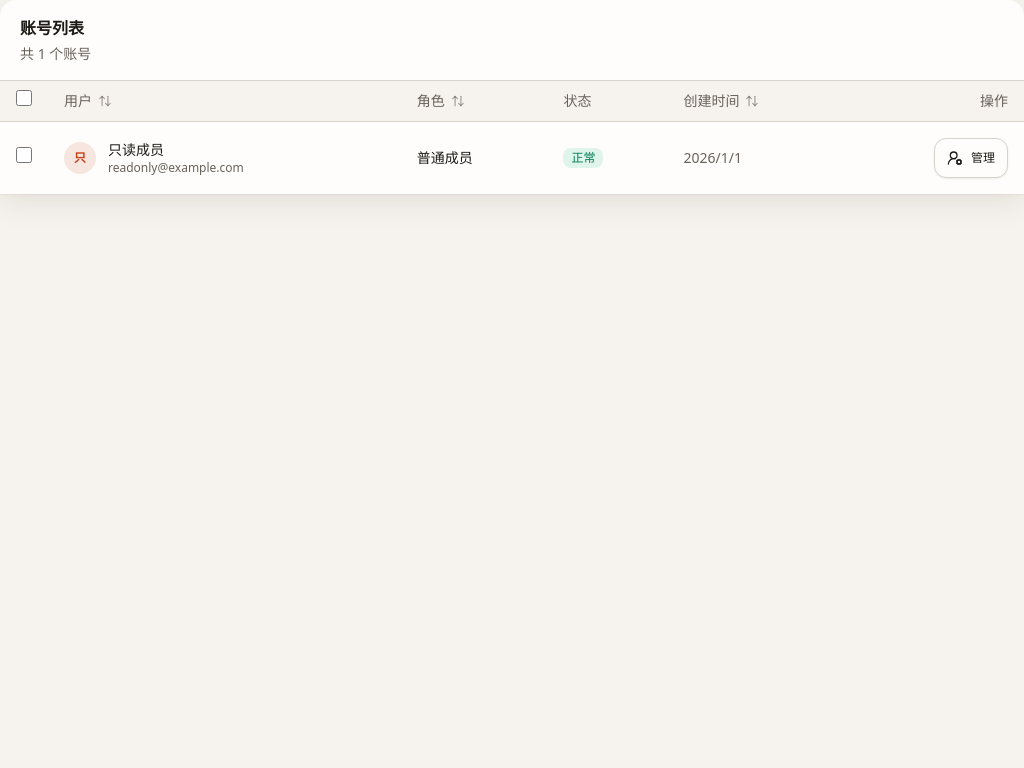
Test case: UserList › keeps multiple role checkboxes selected at the same time
Click the button with aria-label "管理 readonly@example.com" at coordinates (971, 158), box [934,138,1008,178]
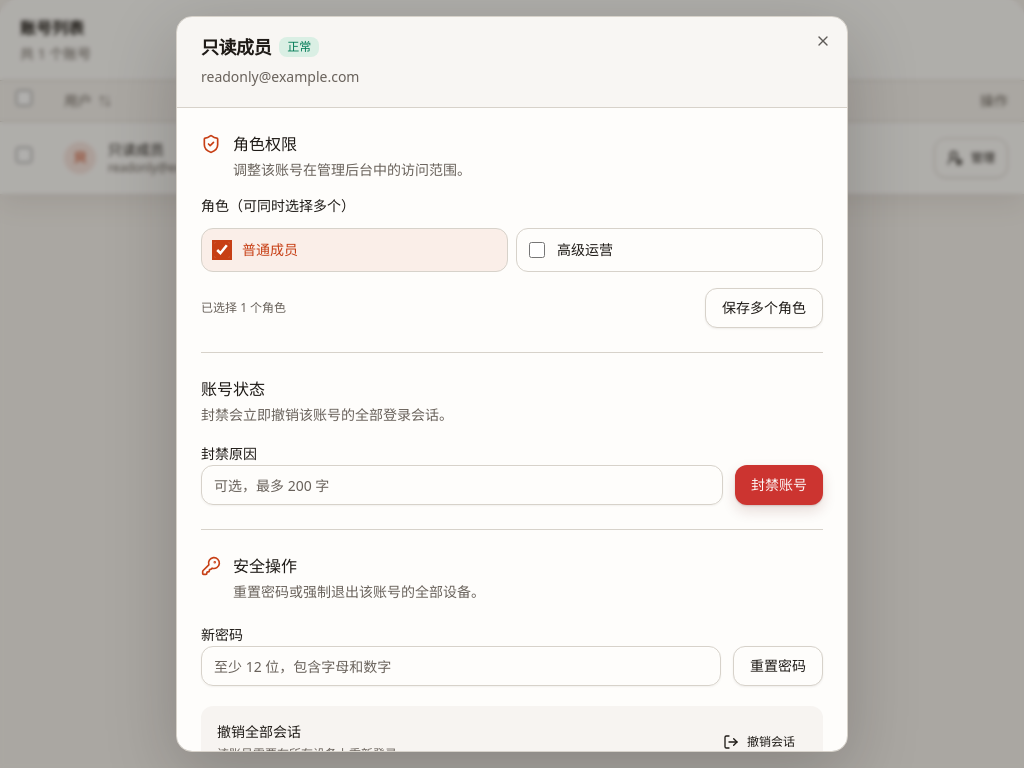
Click the checkbox labelled "高级运营" at coordinates (537, 250), box [529,242,545,258]
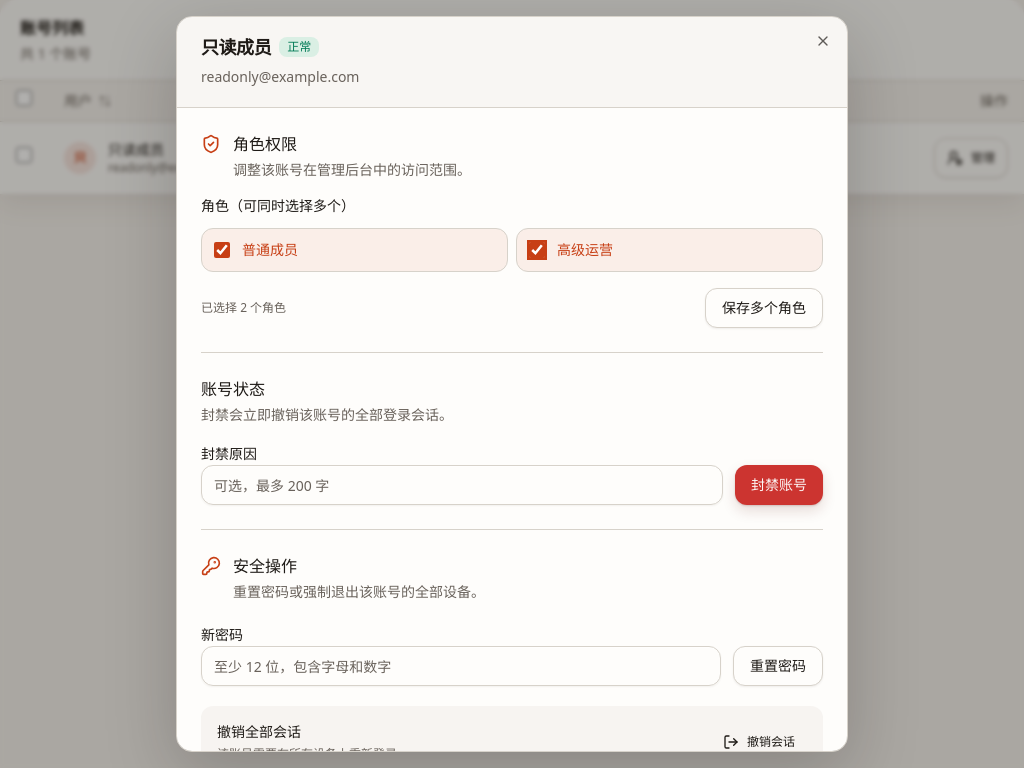
Result: the checkbox labelled "高级运营" is checked at [529,242,545,258]
Result: the checkbox labelled "普通成员" is checked at [214,242,230,258]
Result: the text "已选择 2 个角色" is shown at [201,300,286,316]
